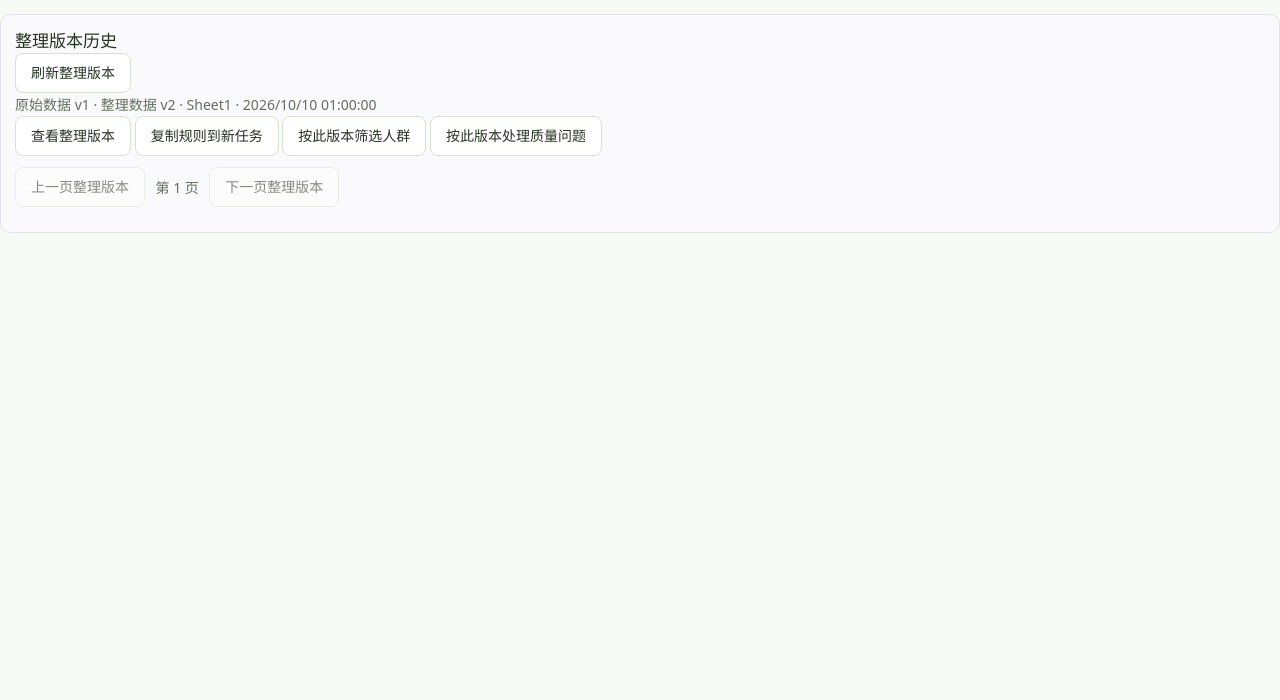
prepared history reads actual Excel row coordinates and copies recipe from raw to a new task
This screenshot has width=1280, height=700.
Click the button "查看整理版本".
click(73, 136)  # box [15,116,131,156]
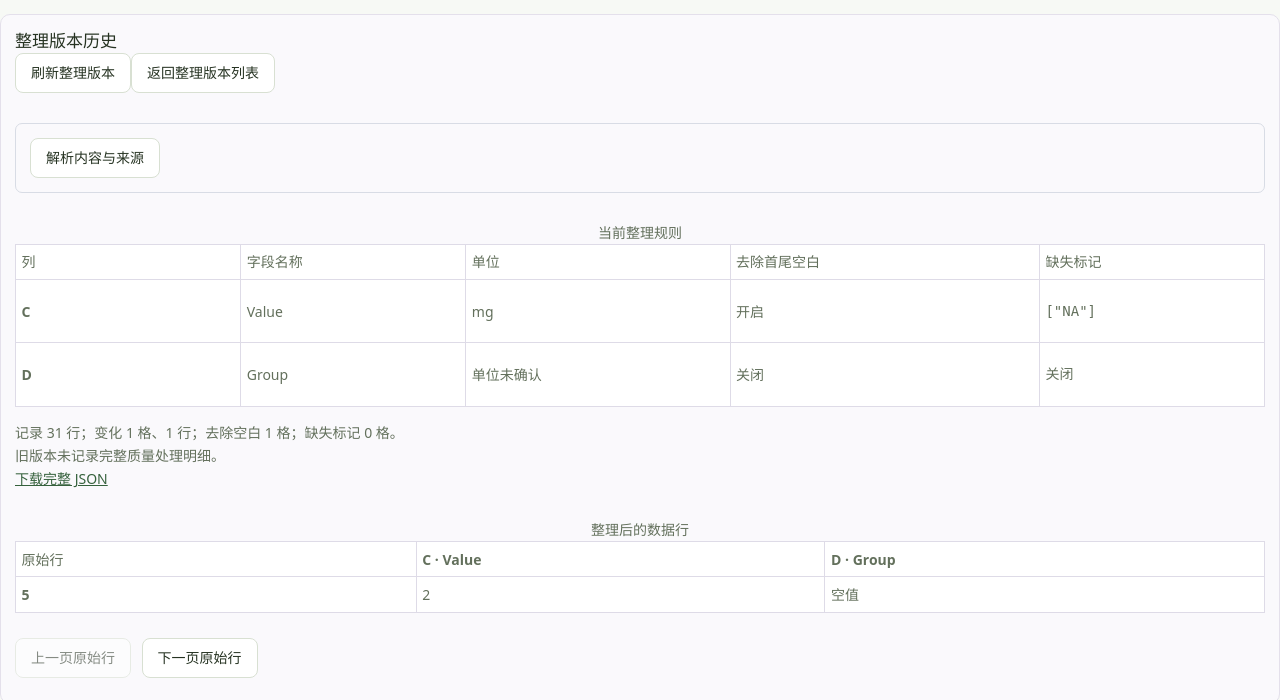
expect the table "整理后的数据行" is shown: met, box [15,518,1265,613]
Click the button "返回整理版本列表".
click(203, 73)  # box [131,53,275,93]
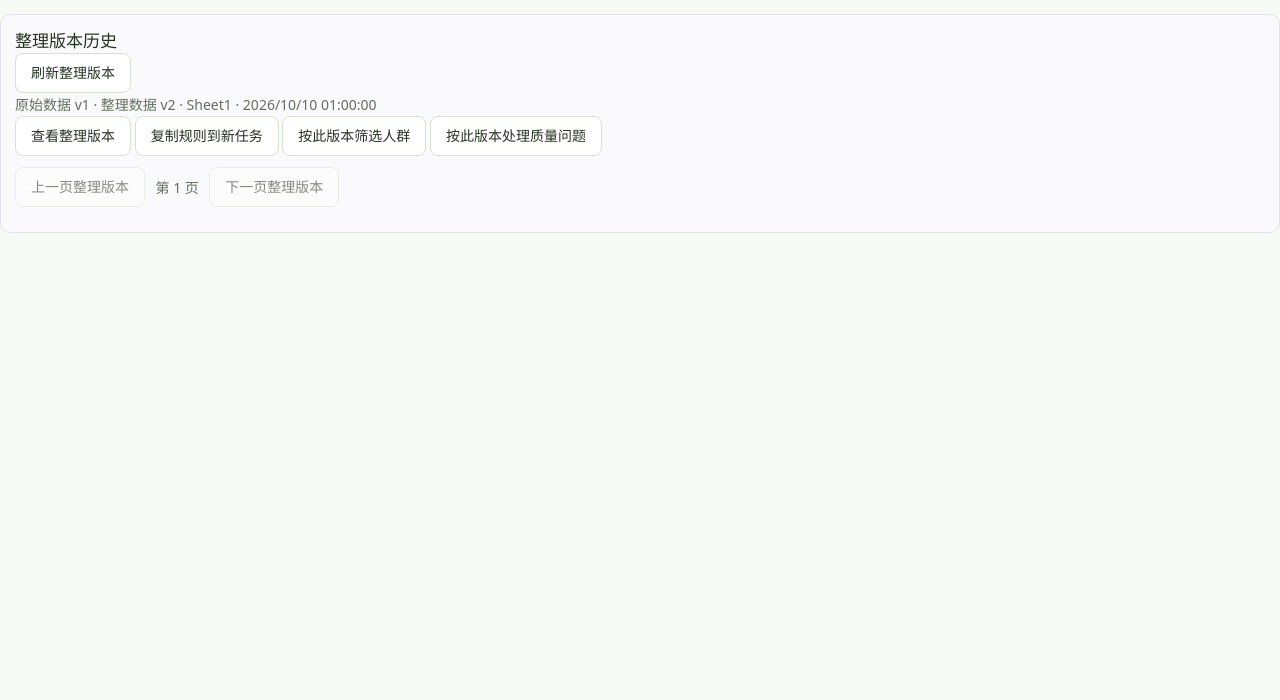
Click the button "复制规则到新任务".
click(207, 136)  # box [135,116,279,156]
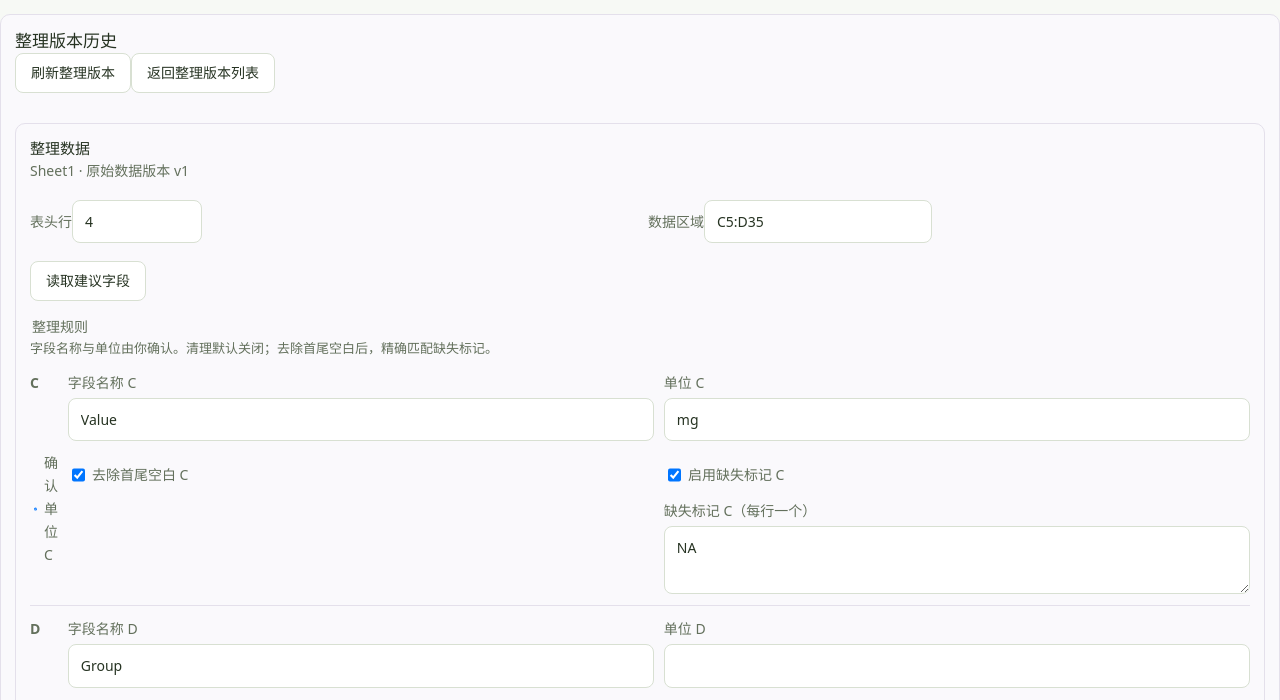
expect the field labelled "字段名称 C" holds "Value": met
expect the checkbox labelled "去除首尾空白 C" is checked: met, box [72,454,85,496]
Type " edited" into the field labelled "字段名称 C".
click(361, 420); type(" edited")  # box [68,398,654,441]
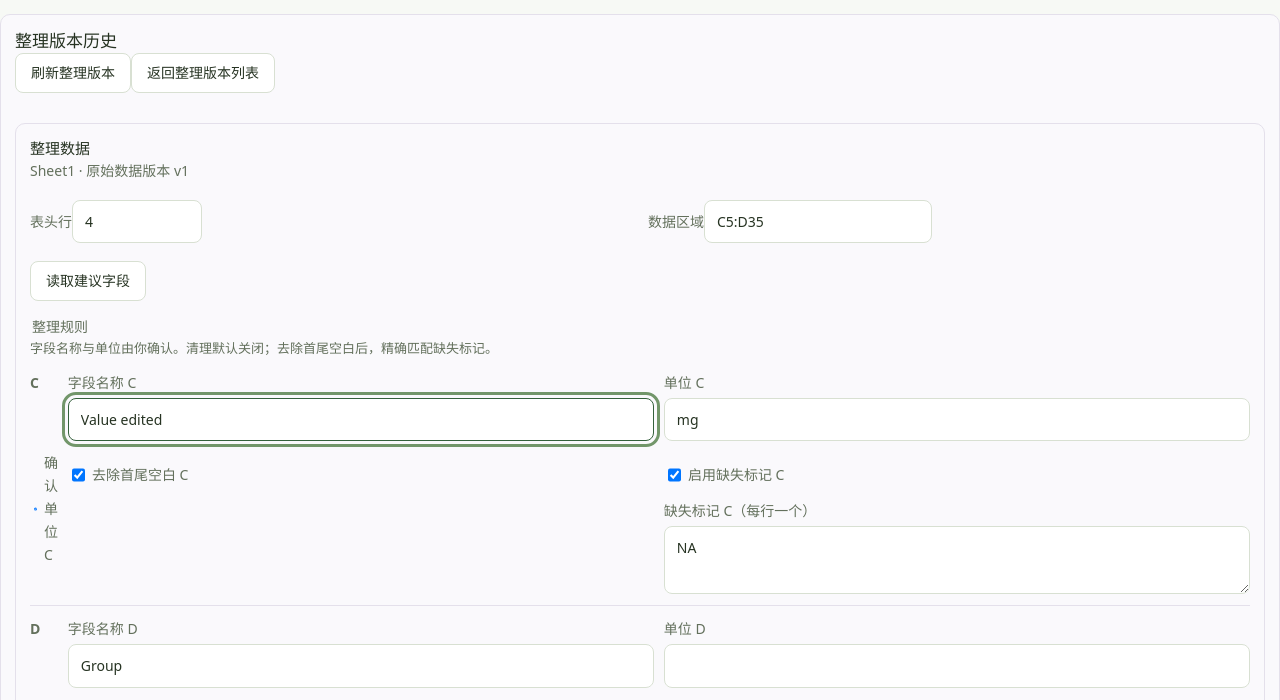
expect the field labelled "字段名称 C" holds "Value edited": met, box [68,398,654,441]
Click the button "返回整理版本列表".
click(203, 73)  # box [131,53,275,93]
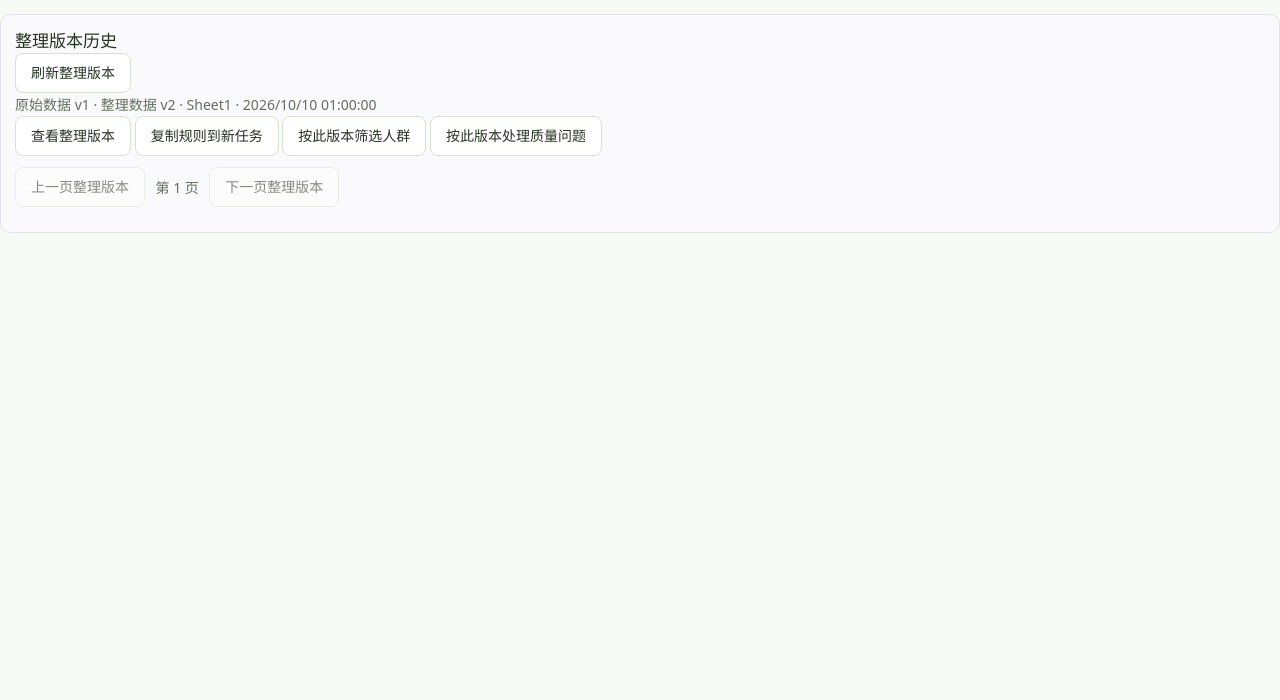
Click the button "复制规则到新任务".
click(207, 136)  # box [135,116,279,156]
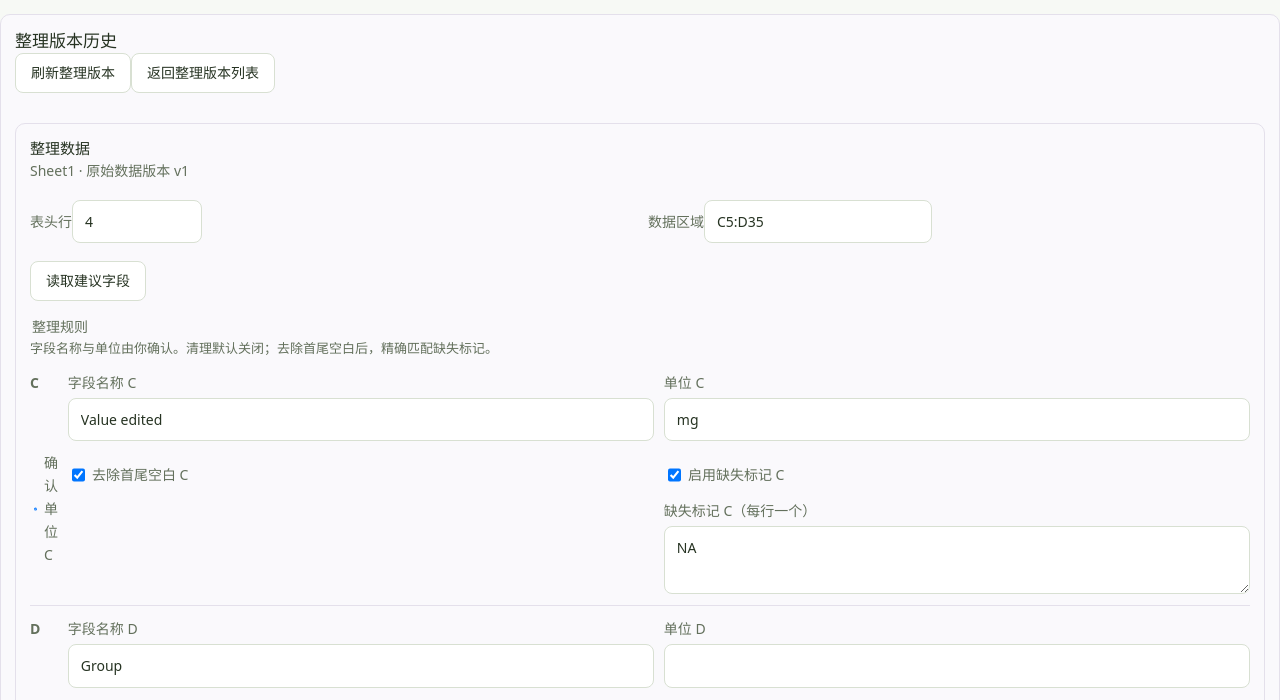
expect the field labelled "字段名称 C" holds "Value edited": met, box [68,398,654,441]
